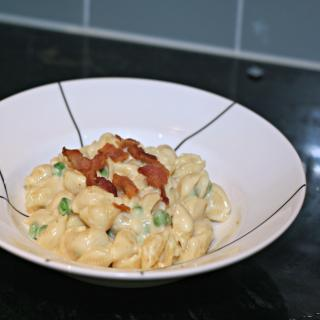Pasta: (26, 130, 232, 270)
